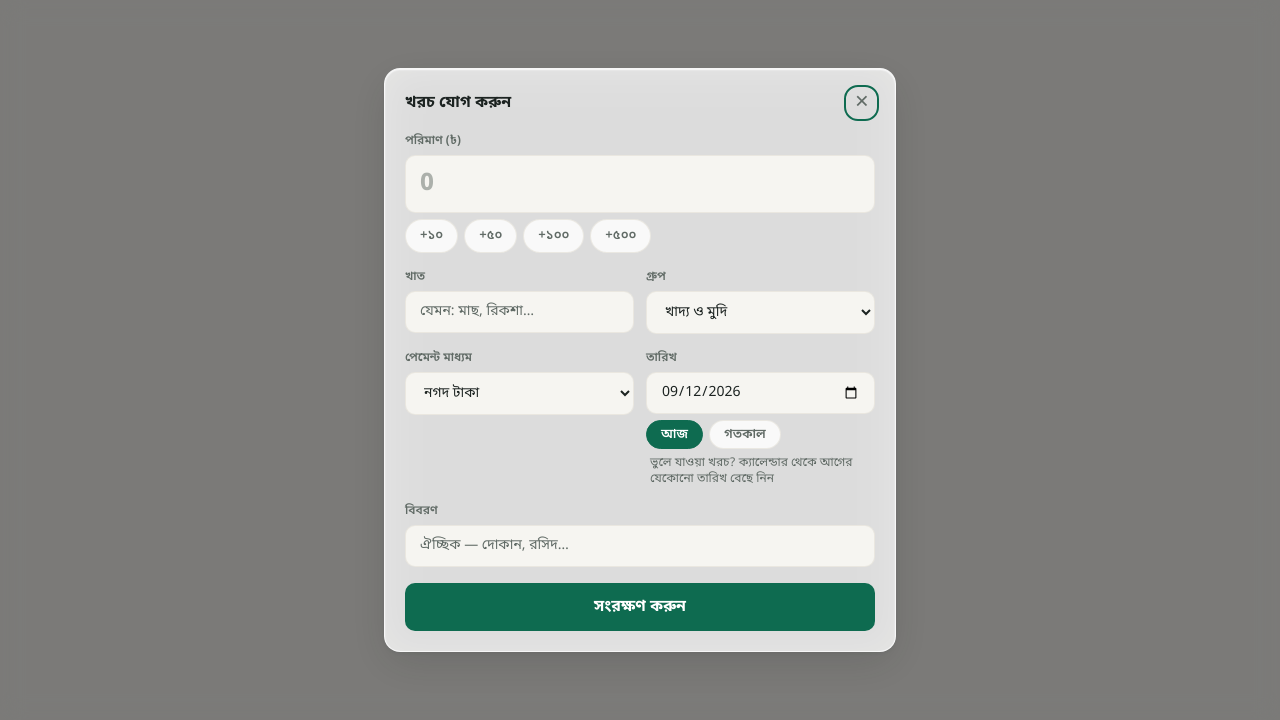
Test: ExpenseForm optimistic create (T20.2) › a failed create (500) rolls the cache back and shows the error toast
Type "২৫০" into the field labelled "পরিমাণ (৳)" at (640, 184), box [405, 155, 875, 213]
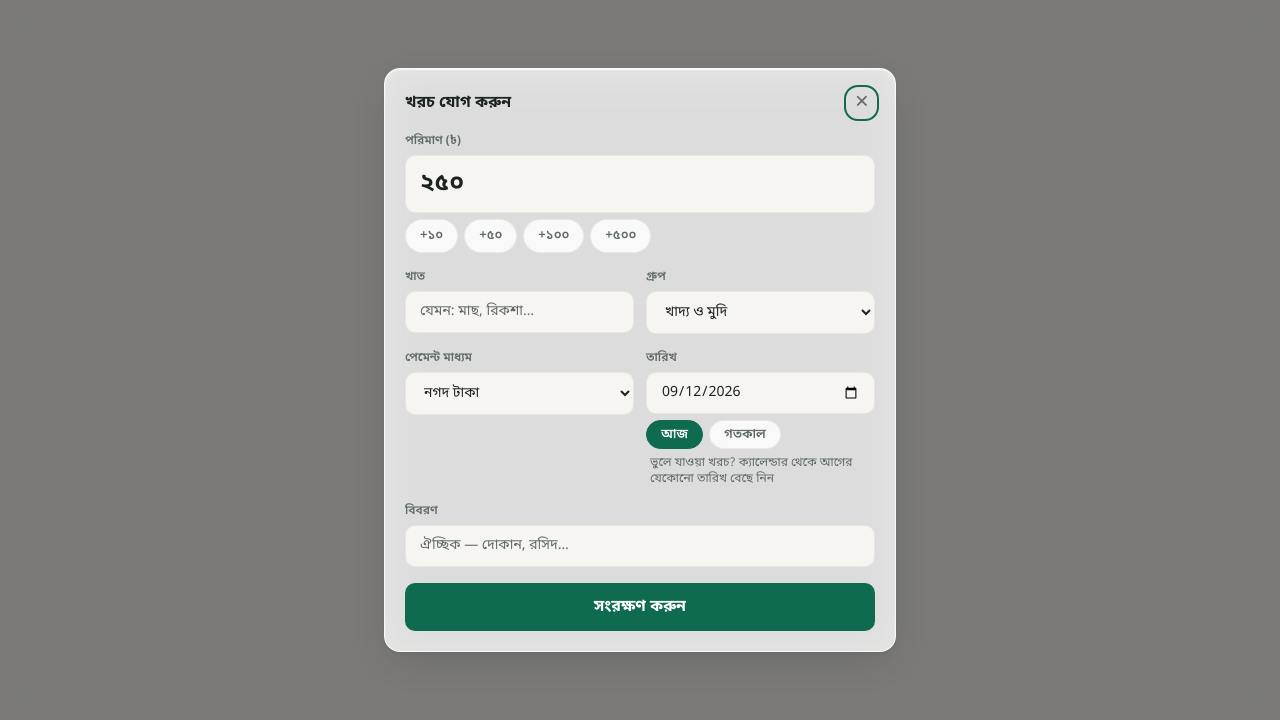
Type "মাছ" into the dropdown labelled "খাত" at (520, 312), box [405, 290, 634, 332]
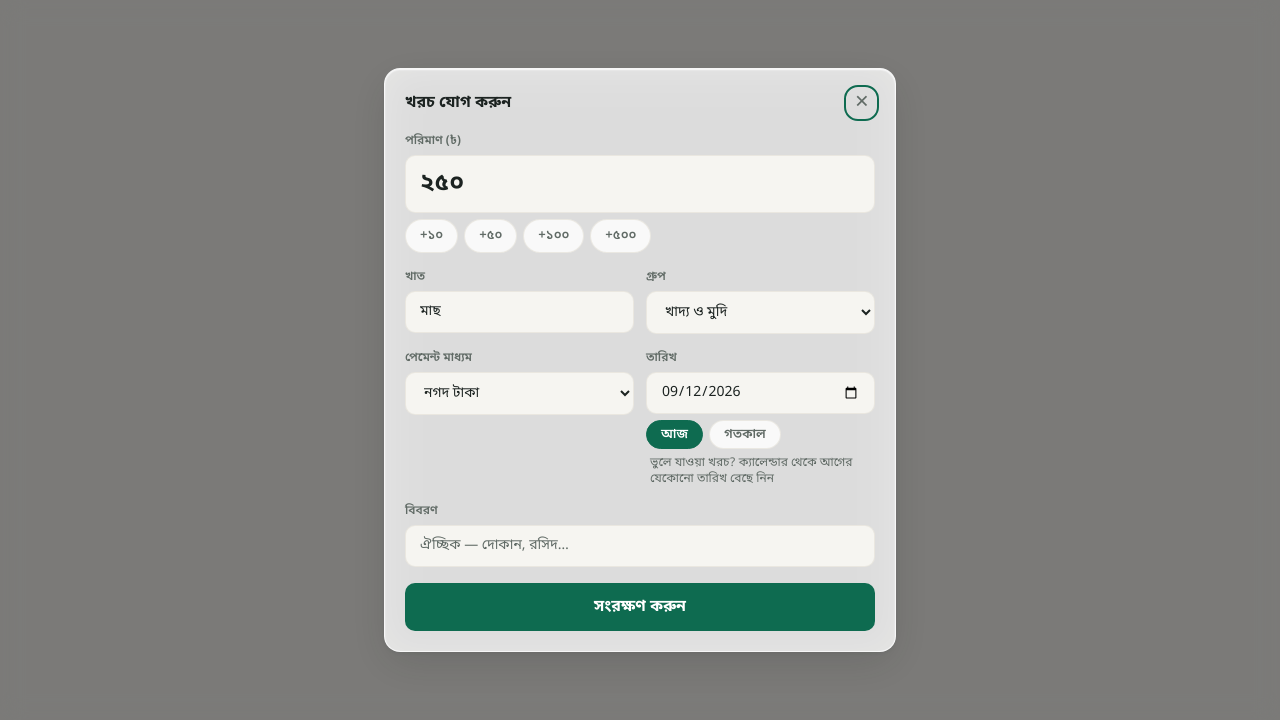
Submit the form, box [385, 69, 895, 651]
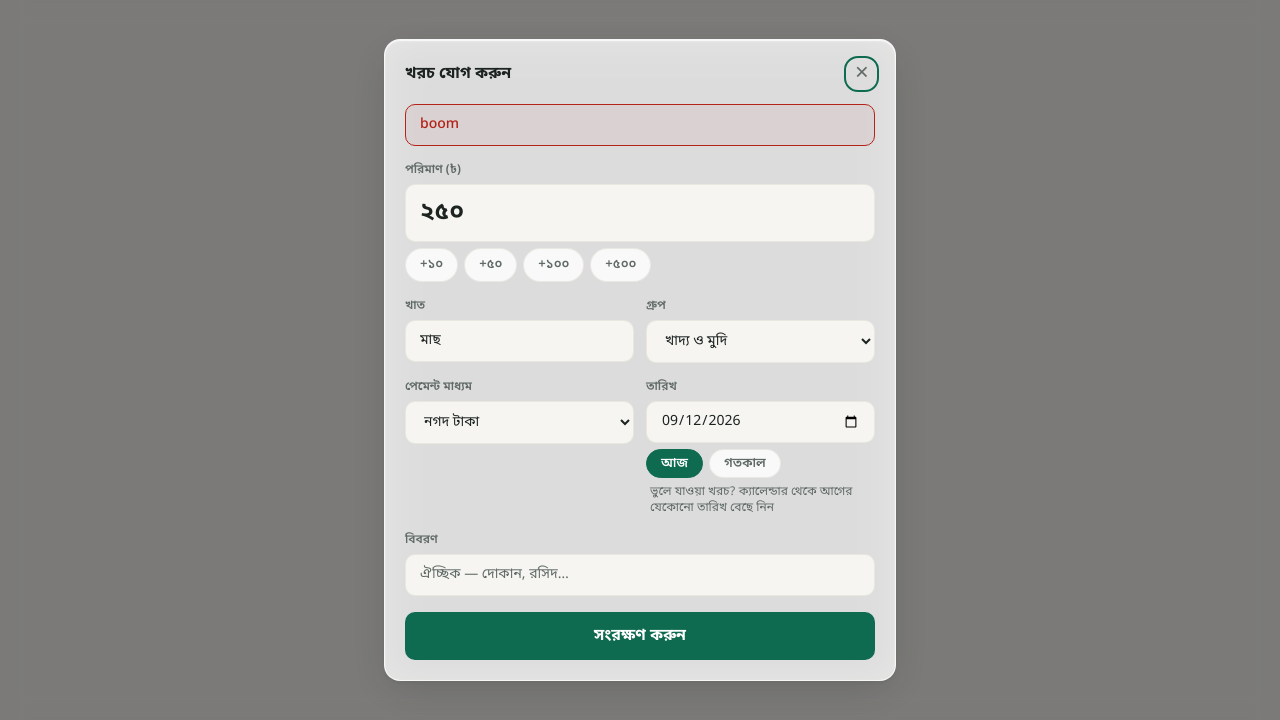
Now the message reads "boom", box [420, 115, 459, 134]
